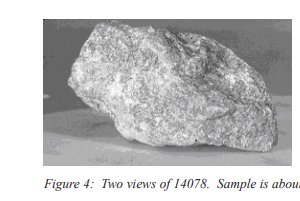Basalt: (66, 20, 284, 155)
